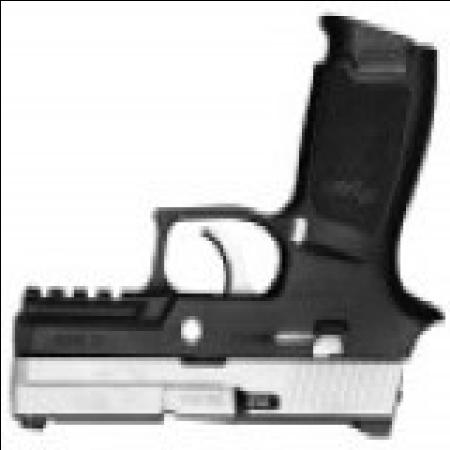Pistol: (17, 33, 447, 442)
